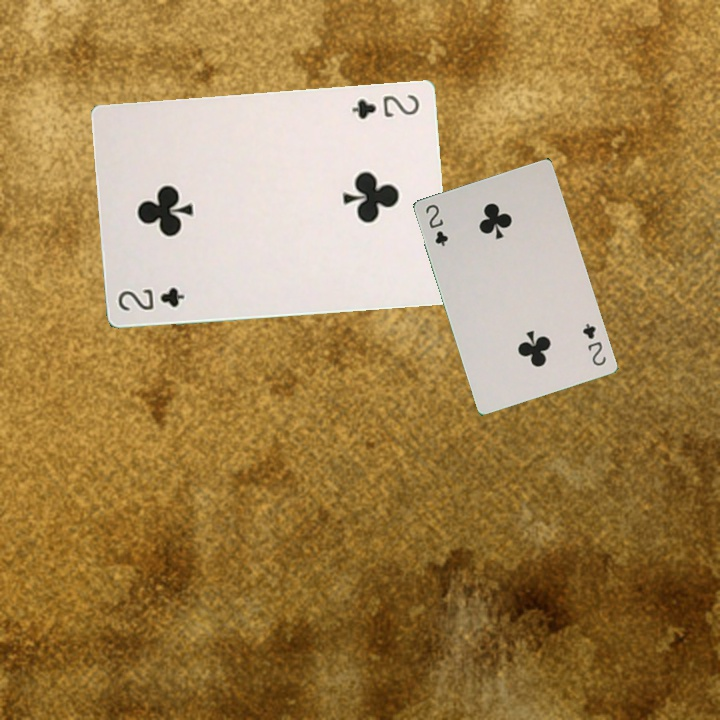2c: (347, 90, 422, 121), (114, 283, 187, 314), (579, 319, 609, 368), (421, 200, 451, 249)
